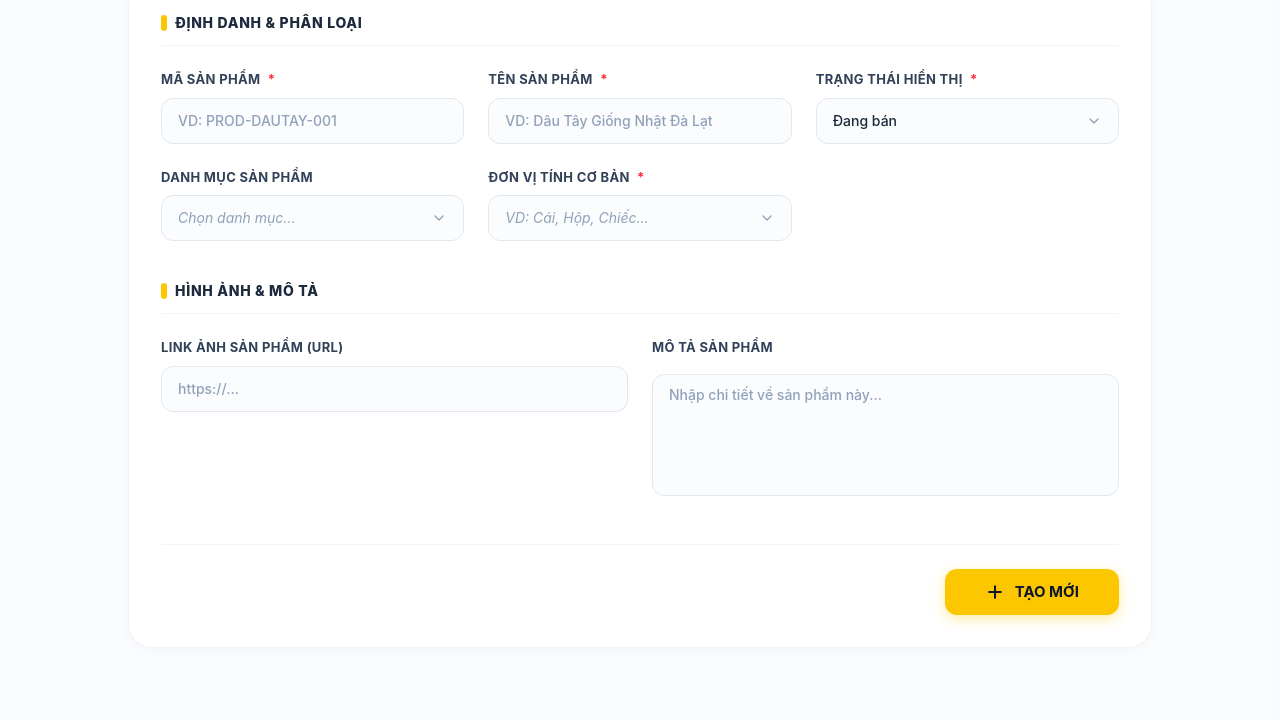
Test: Module 05 - ProductForm Component › TC02 - Hiển thị lỗi validation khi submit thiếu mã, tên hoặc đơn vị tính
(page scrolled)
Step 1. Click the button "TẠO MỚI" → (1032, 592), box 945,568 -> 1119,615
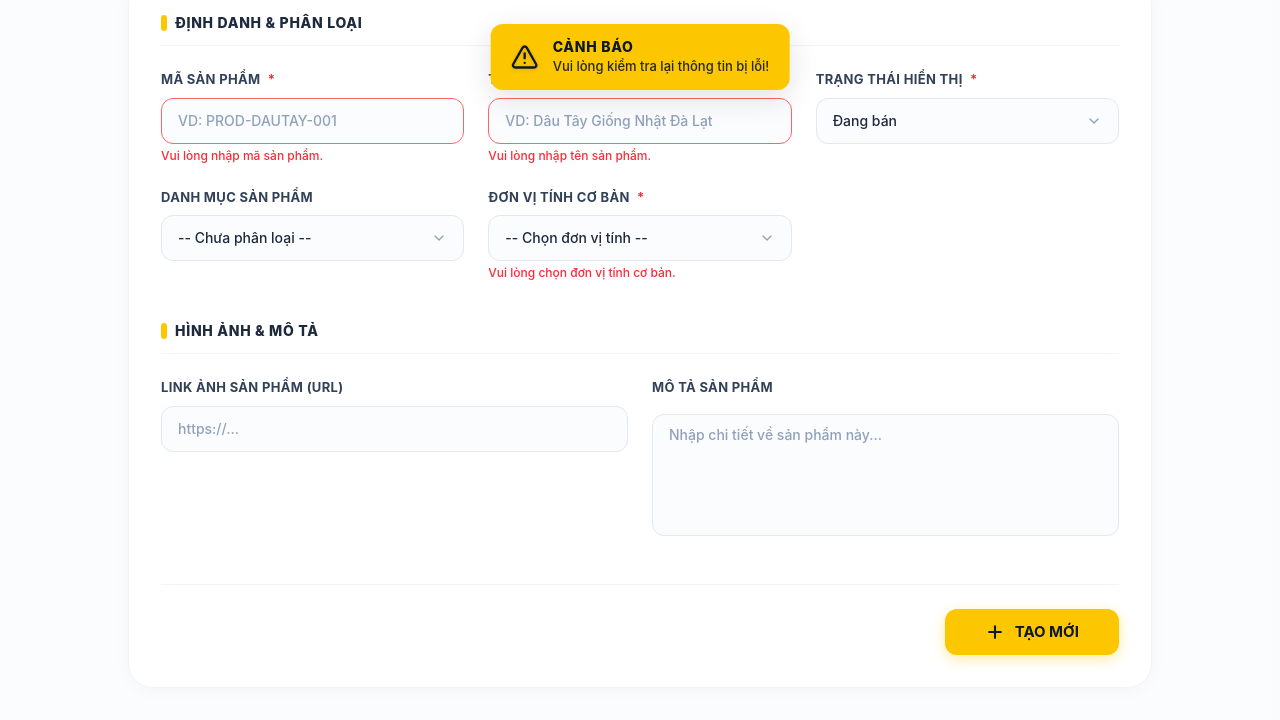
Expected: the text "Vui lòng nhập mã sản phẩm." is shown, 161,148 -> 323,162
Expected: the text "Vui lòng nhập tên sản phẩm." is shown, 488,148 -> 651,162
Expected: the text "Vui lòng chọn đơn vị tính cơ bản." is shown, 488,265 -> 676,280
